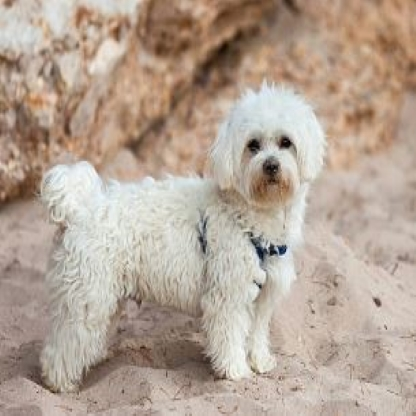maltese: (34, 77, 326, 398)
